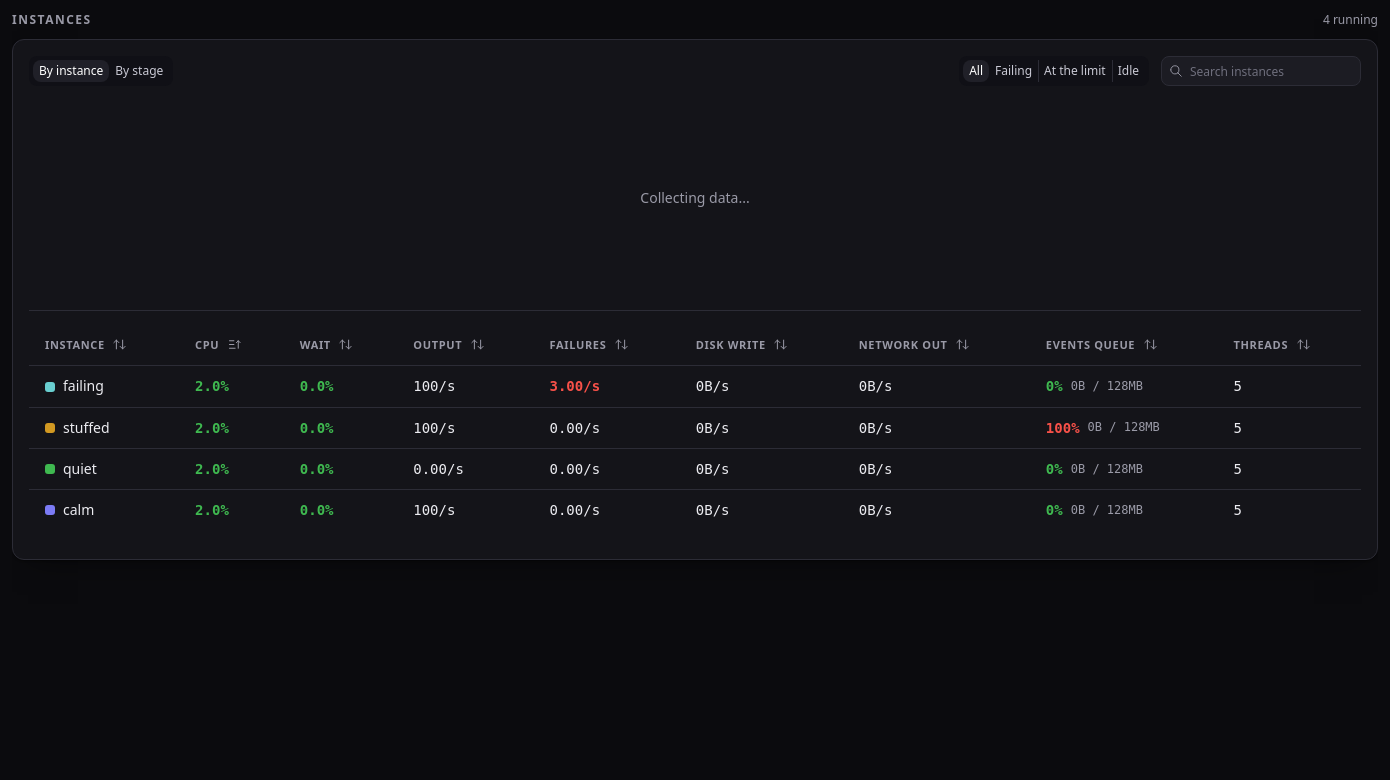
Test: InstancesSection › keeps only the instances a quick filter asks for
Step 1. Click the text "Failing" → [1014, 70], box [995,62,1032,79]
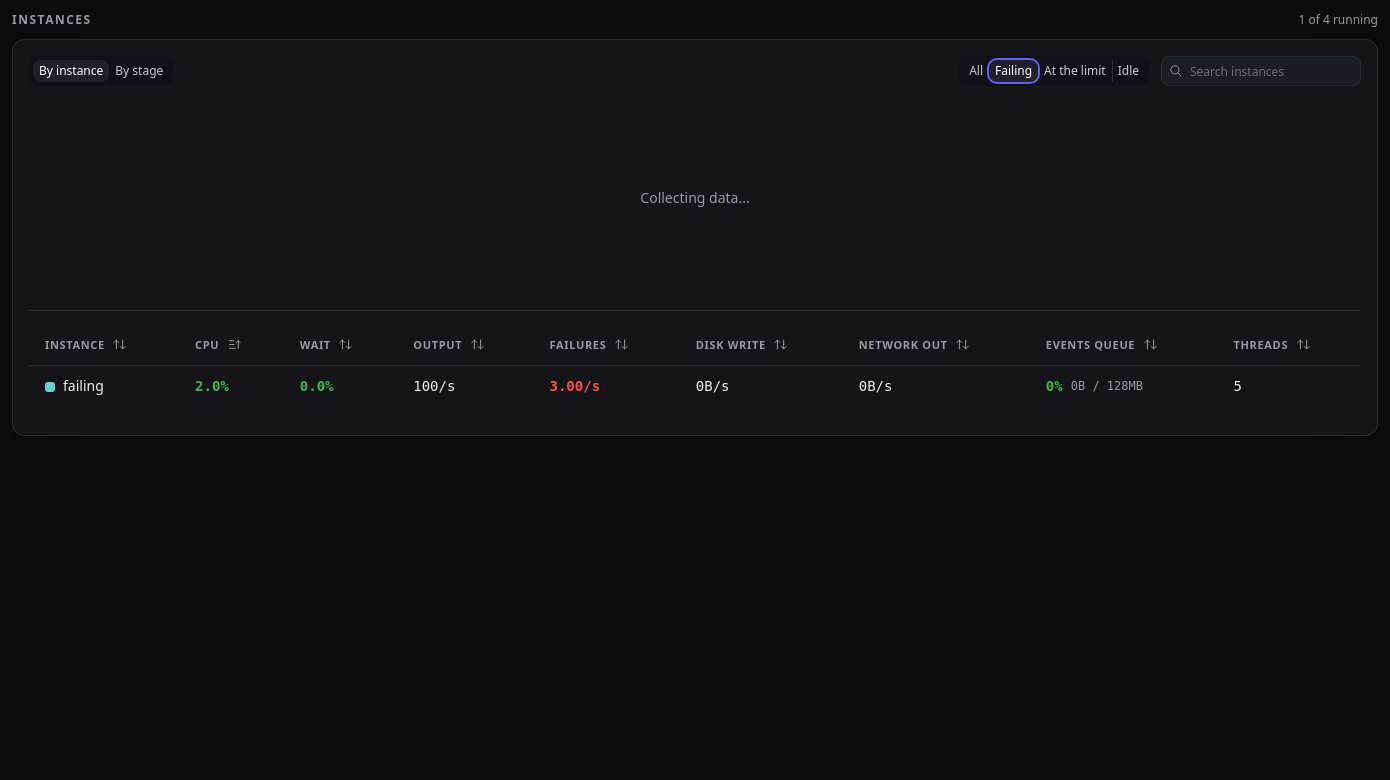
Expected: the row "failing 2.0% 0.0% 100/s 3.00/s 0B/s 0B/s 0% 0B / 128MB 5" is shown, [29,366,1361,407]
Now the text "1 of 4 running" is shown, box [1298,12,1378,29]
Step 2. Click the text "At the limit" → [1075, 70], box [1044,62,1106,79]
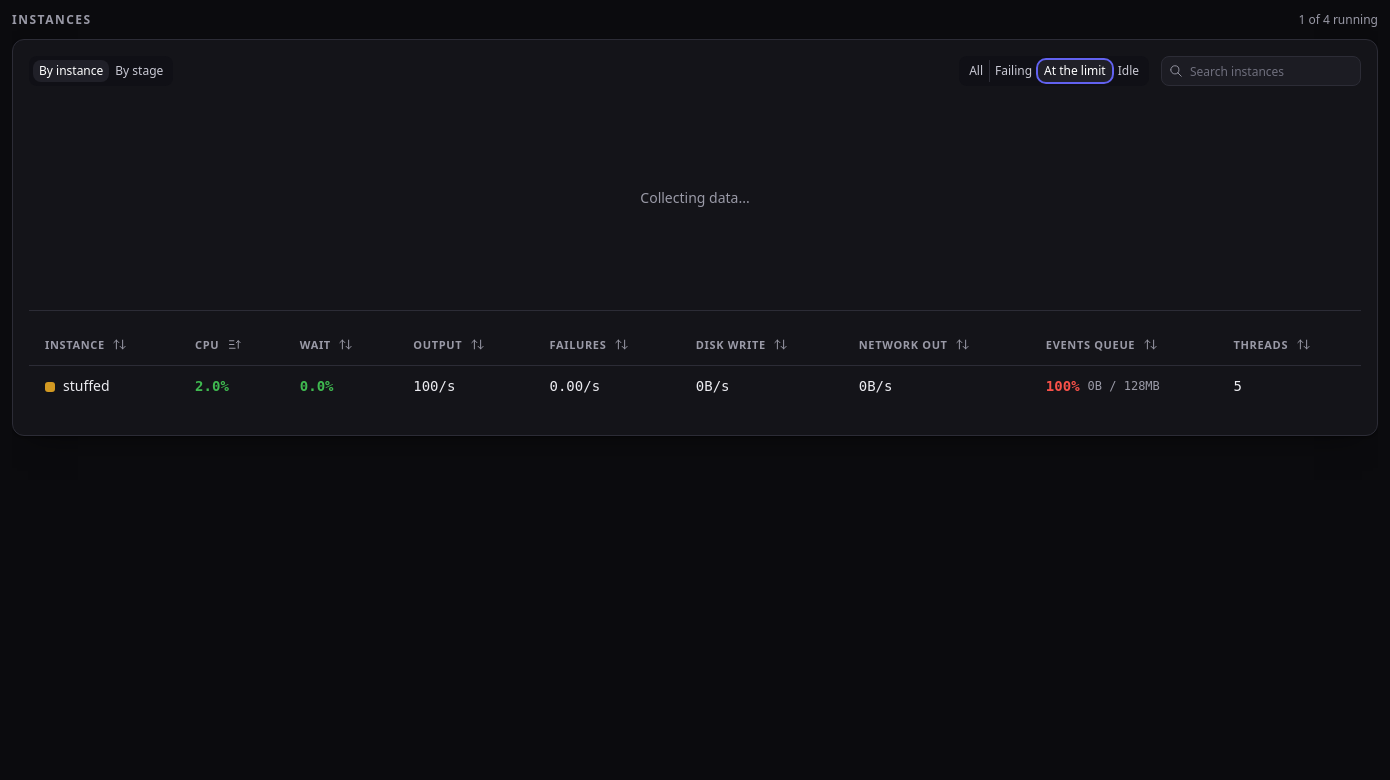
Now the row "stuffed 2.0% 0.0% 100/s 0.00/s 0B/s 0B/s 100% 0B / 128MB 5" is shown, box [29,366,1361,407]
Step 3. Click the text "Idle" → [1128, 70], box [1118,62,1139,79]
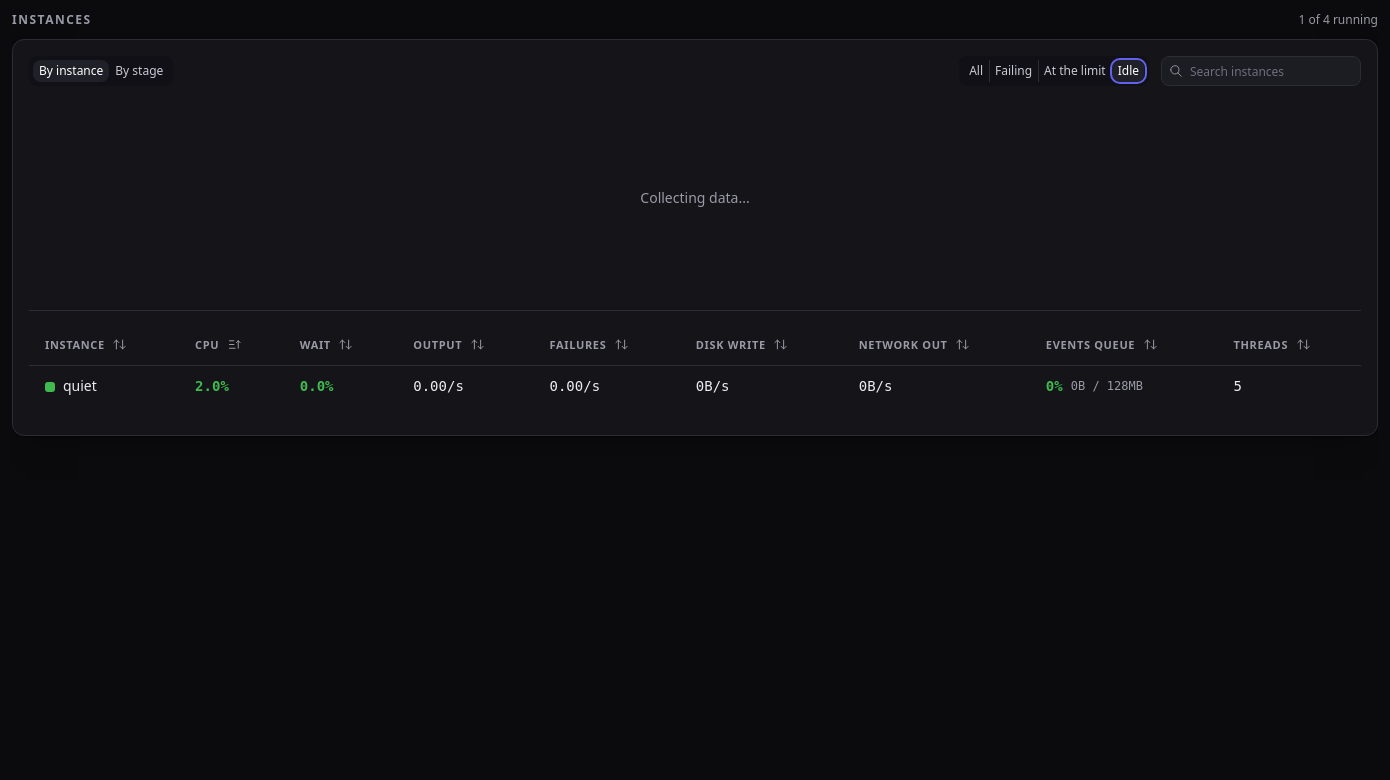
Now the row "quiet 2.0% 0.0% 0.00/s 0.00/s 0B/s 0B/s 0% 0B / 128MB 5" is shown, box [29,366,1361,407]
